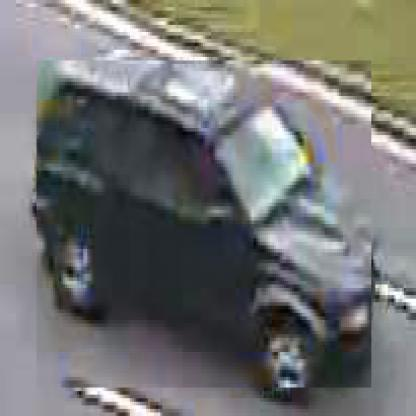car: (38, 62, 375, 392)
